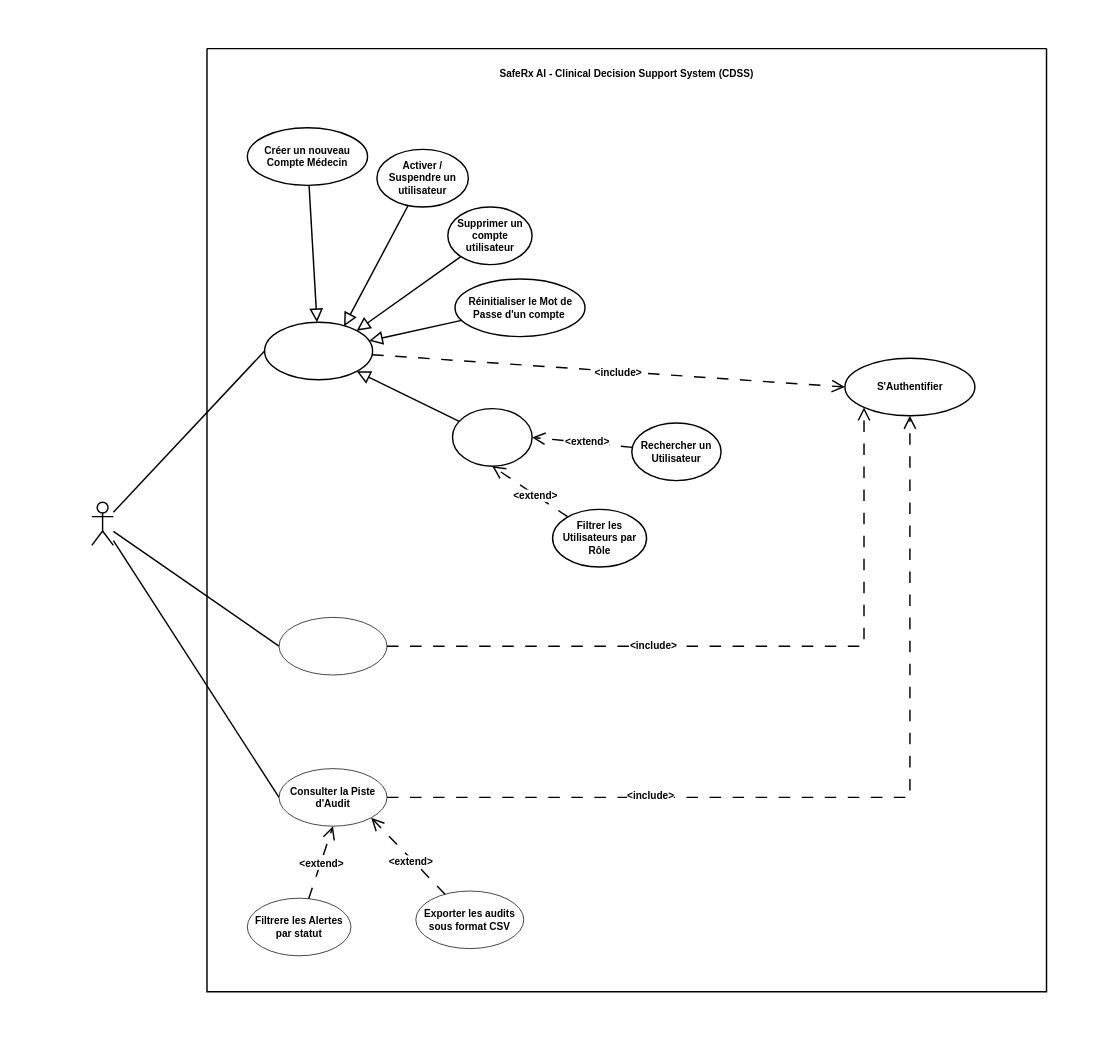
The diagram is 1104 pixels wide and 1054 high, and some of its shapes have lost their labels. The shapes that lost their labels are listed below. From the top down, each one's box as (x1, y1, x2, y2) in pixels, then its label:
(264, 321, 373, 380): Gérer les comptes utilisateurs
(451, 408, 532, 467): Consulter la Liste des Utilisateurs
(91, 501, 114, 546): Admin
(278, 617, 387, 675): Consulter les Statistiques
